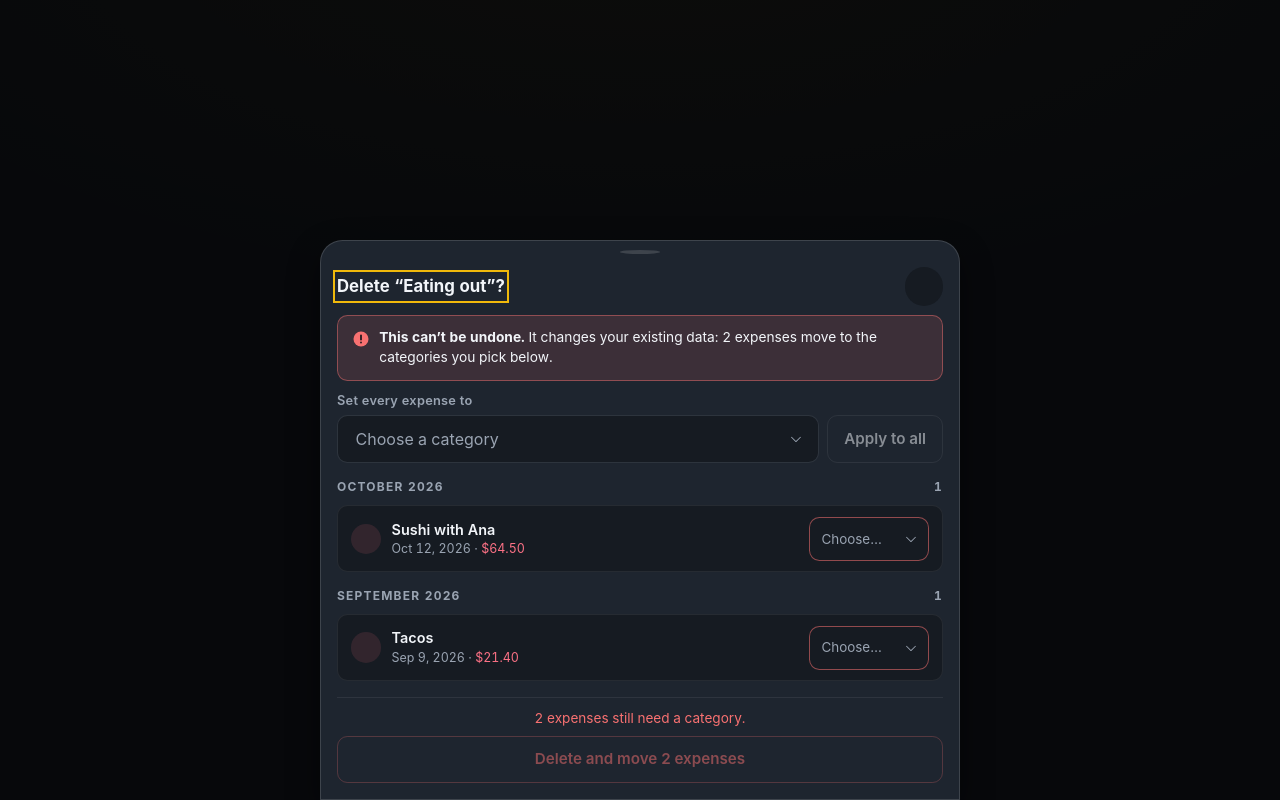
Test case: DeleteSheet › counts down as rows are assigned one by one
The image size is (1280, 800).
Select "Food" in the dropdown named "Category for Sushi with Ana": point(869, 539) [809,517,929,561]
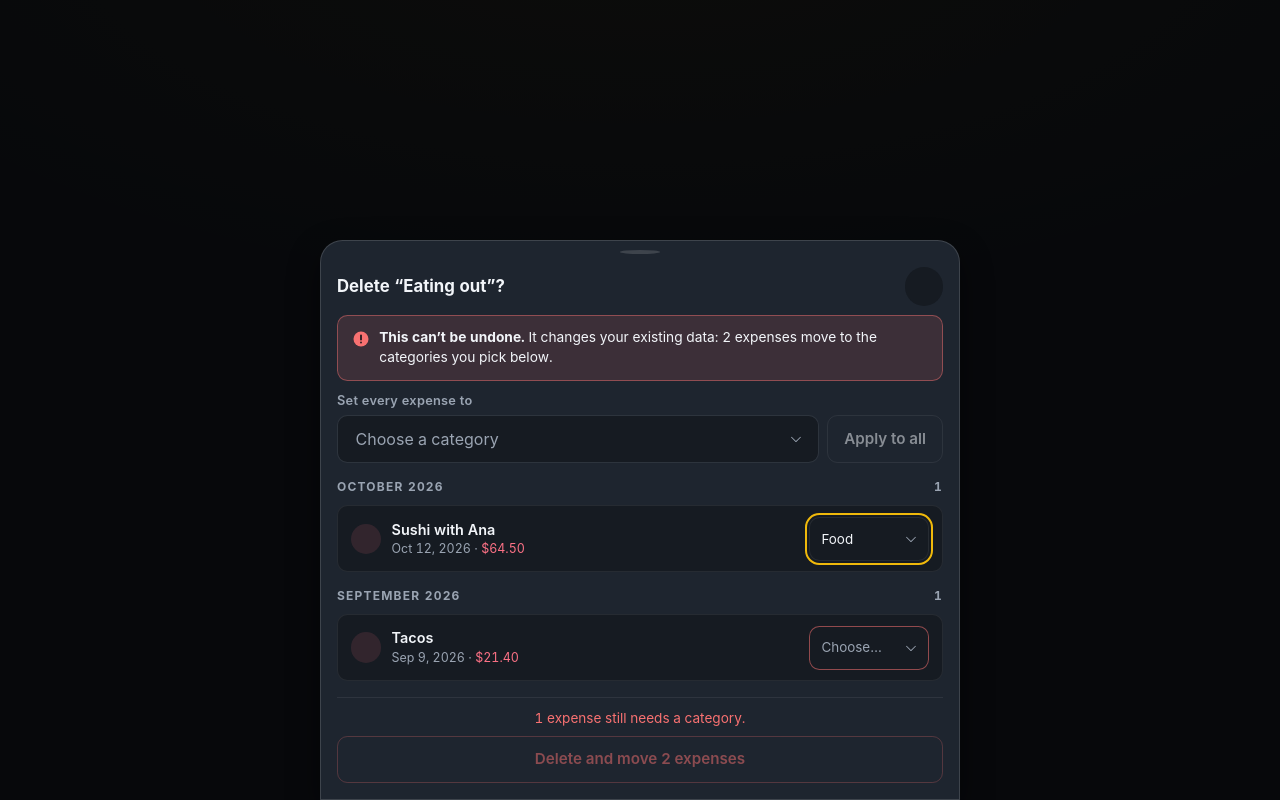
Result: the message reads "1 expense still needs a category." at [534,710,745,726]
